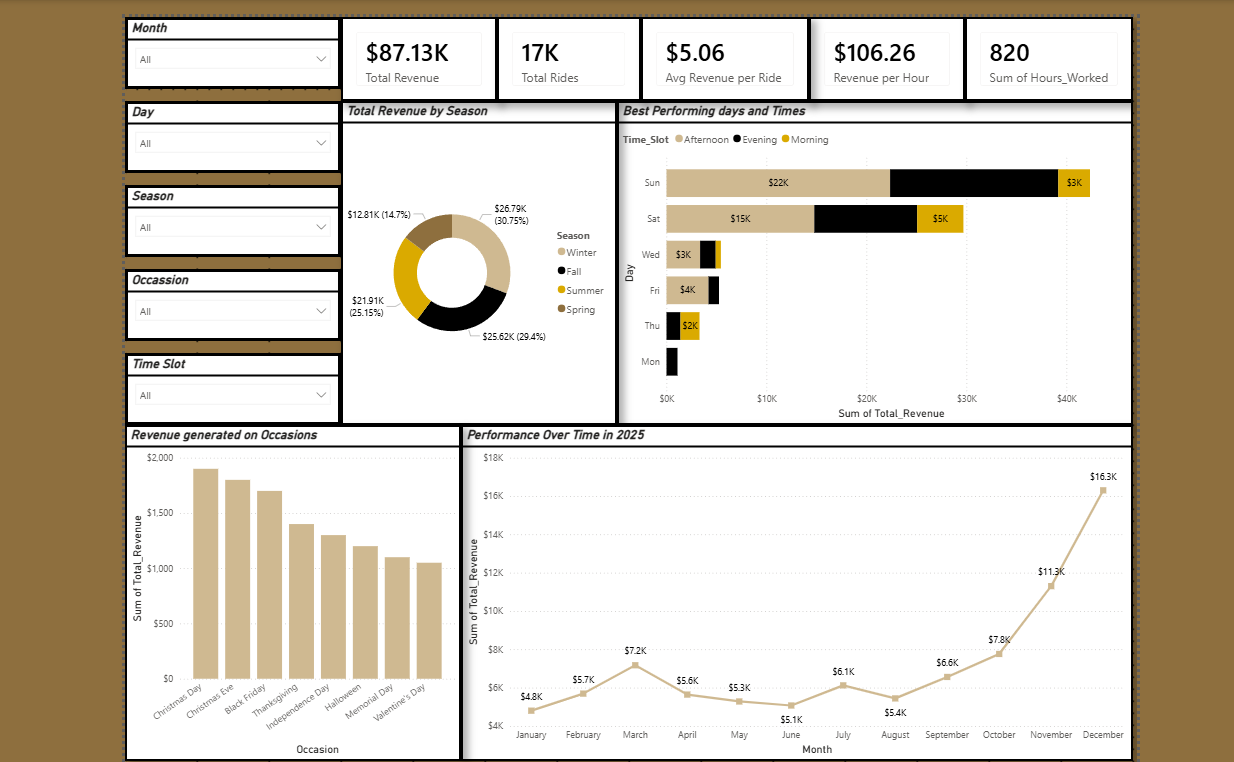

Layout of this report page (visuals, bound fields, positions):
{"tool":"powerbi","page":{"name":"Page 1","canvas":[1350,1000],"ordinal":0},"visuals":[{"type":"slicer","title":"Month","fields":{"Values":["TracklessTrain_2025.Month"]},"box":[0,0,288,96],"z":0},{"type":"slicer","title":"Day","fields":{"Values":["TracklessTrain_2025.Day"]},"box":[0,112,288,96],"z":1000},{"type":"slicer","title":"Season","fields":{"Values":["TracklessTrain_2025.Season"]},"box":[0,224,288,96],"z":2000},{"type":"slicer","title":"Occassion","fields":{"Values":["TracklessTrain_2025.Occasion"]},"box":[0,336,288,96],"z":3000},{"type":"barChart","title":"Best Performing days and Times","fields":{"Category":["TracklessTrain_2025.Day","Data.Time_Slot"],"Y":["Sum(Data.Total_Revenue)"],"Series":["Data.Time_Slot"]},"box":[656,112,688,432],"z":4000},{"type":"donutChart","title":"Total Revenue by Season","fields":{"Category":["TracklessTrain_2025.Season","Data.Month"],"Y":["Sum(TracklessTrain_2025.Total_Revenue)"]},"box":[288,112,368,432],"z":5000},{"type":"lineChart","title":"Performance Over Time in 2025","fields":{"Category":["TracklessTrain_2025.Date.Variation.Date Hierarchy.Year","TracklessTrain_2025.Date.Variation.Date Hierarchy.Month","TracklessTrain_2025.Date.Variation.Date Hierarchy.Day"],"Y":["Sum(TracklessTrain_2025.Total_Revenue)"]},"box":[448,544,896,448],"z":6000},{"type":"columnChart","title":"Revenue generated on Occasions","fields":{"Category":["TracklessTrain_2025.Occasion"],"Y":["Sum(Data.Total_Revenue)"]},"box":[0,544,448,448],"z":7000},{"type":"cardVisual","fields":{"Data":["Data.Total Revenue"]},"box":[288,0,208,112],"z":8000},{"type":"cardVisual","fields":{"Data":["Data.Total Rides"]},"box":[496,0,192,112],"z":9000},{"type":"cardVisual","fields":{"Data":["Data.Revenue per Hour"]},"box":[912,0,208,112],"z":10000},{"type":"cardVisual","fields":{"Data":["Data.Avg Revenue per Ride"]},"box":[688,0,224,112],"z":11000},{"type":"slicer","title":"Time Slot","fields":{"Values":["Data.Time_Slot"]},"box":[0,448,288,96],"z":12000},{"type":"cardVisual","fields":{"Data":["Sum(Data.Hours_Worked)"]},"box":[1120,0,224,112],"z":13000}]}

Visuals, with their boxes in screenshot pixels (x1, y1, x2, y2):
"Month" slicer: BBox(122, 13, 338, 85)
"Day" slicer: BBox(122, 97, 338, 169)
"Season" slicer: BBox(122, 181, 338, 253)
"Occassion" slicer: BBox(122, 265, 338, 337)
"Best Performing days and Times" barChart: BBox(615, 97, 1132, 421)
"Total Revenue by Season" donutChart: BBox(338, 97, 615, 421)
"Performance Over Time in 2025" lineChart: BBox(459, 421, 1132, 758)
"Revenue generated on Occasions" columnChart: BBox(122, 421, 459, 758)
cardVisual - Data.Total Revenue: BBox(338, 13, 495, 97)
cardVisual - Data.Total Rides: BBox(495, 13, 639, 97)
cardVisual - Data.Revenue per Hour: BBox(807, 13, 963, 97)
cardVisual - Data.Avg Revenue per Ride: BBox(639, 13, 807, 97)
"Time Slot" slicer: BBox(122, 349, 338, 421)
cardVisual - Sum(Data.Hours_Worked): BBox(963, 13, 1132, 97)
